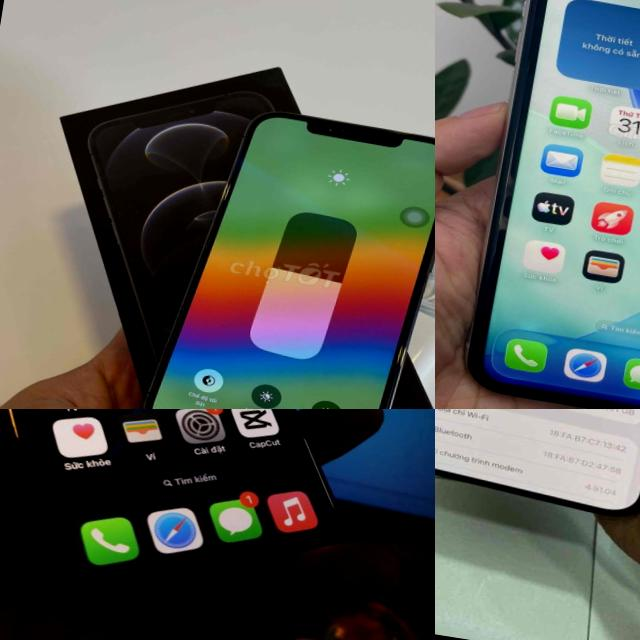gen_11: (0, 409, 401, 632), (450, 0, 640, 409)
gen_12_13: (132, 96, 435, 409)
gen_14: (435, 409, 640, 530)
